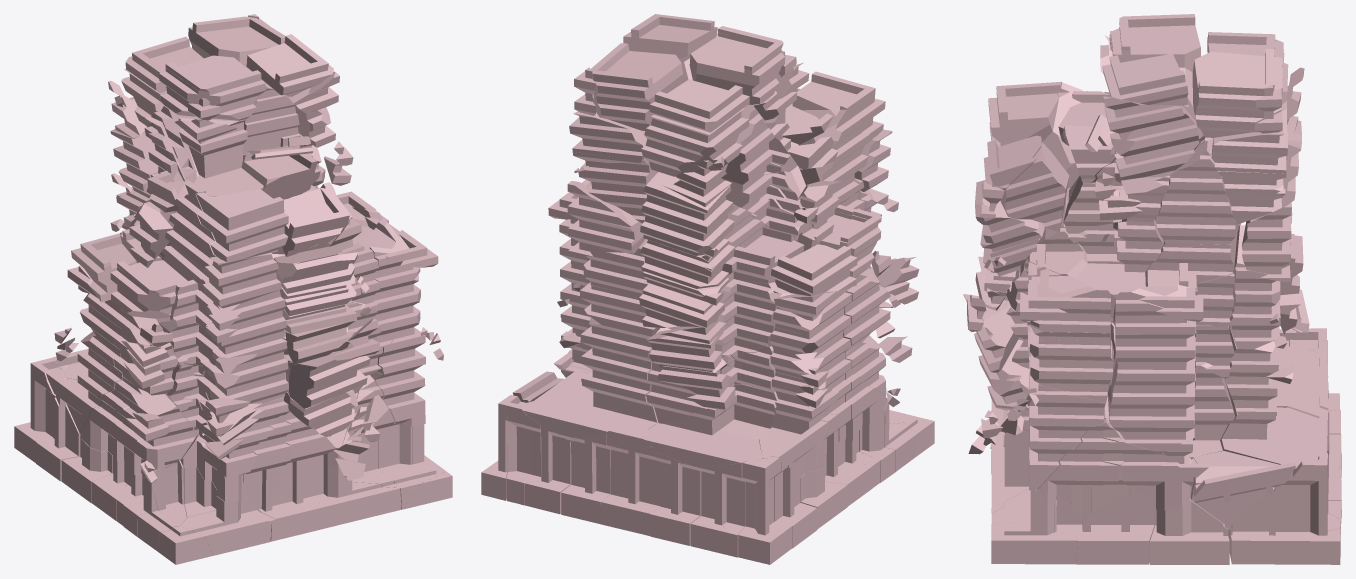
File: Heavy_Commercial3-broken.fbx
3 renders of one model, left to right at view 1: azimuth 30°, elevation 25°; view 2: azimuth 150°, elevation 25°; view 3: azimuth 270°, elevation 25°, orthographic. The views are drawn at different scales.
Visible parts, largest first — view 1: Heavy_Commercal_3_cell.022, Heavy_Commercal_3_cell.010, Heavy_Commercal_3_cell.110, Heavy_Commercal_3_cell.197, Heavy_Commercal_3_cell.074, Heavy_Commercal_3_cell.013, Heavy_Commercal_3_cell.125, Heavy_Commercal_3_cell.098, Heavy_Commercal_3_cell.199, Heavy_Commercal_3_cell.181, Heavy_Commercal_3_cell.088, Heavy_Commercal_3_cell.124 (+79 smaller); view 2: Heavy_Commercal_3_cell.199, Heavy_Commercal_3_cell.047, Heavy_Commercal_3_cell.002, Heavy_Commercal_3_cell.096, Heavy_Commercal_3_cell.171, Heavy_Commercal_3_cell.010, Heavy_Commercal_3_cell.038, Heavy_Commercal_3_cell.031, Heavy_Commercal_3_cell.001, Heavy_Commercal_3_cell.011, Heavy_Commercal_3_cell.141, Heavy_Commercal_3_cell.158 (+68 smaller); view 3: Heavy_Commercal_3_cell.199, Heavy_Commercal_3_cell.135, Heavy_Commercal_3_cell.002, Heavy_Commercal_3_cell.030, Heavy_Commercal_3_cell.166, Heavy_Commercal_3_cell.065, Heavy_Commercal_3_cell.007, Heavy_Commercal_3_cell.022, Heavy_Commercal_3_cell.104, Heavy_Commercal_3_cell.056, Heavy_Commercal_3_cell.125, Heavy_Commercal_3_cell.190 (+70 smaller).
Boxes of the visible parts, left/top/right/bottom form: Heavy_Commercal_3_cell.022: left=196, top=188, right=288, bottom=262; Heavy_Commercal_3_cell.010: left=159, top=55, right=265, bottom=120; Heavy_Commercal_3_cell.110: left=176, top=115, right=263, bottom=196; Heavy_Commercal_3_cell.197: left=207, top=345, right=288, bottom=403; Heavy_Commercal_3_cell.074: left=205, top=290, right=287, bottom=357; Heavy_Commercal_3_cell.013: left=180, top=494, right=271, bottom=555; Heavy_Commercal_3_cell.125: left=246, top=34, right=333, bottom=96; Heavy_Commercal_3_cell.098: left=285, top=349, right=370, bottom=408; Heavy_Commercal_3_cell.199: left=188, top=16, right=285, bottom=67; Heavy_Commercal_3_cell.181: left=115, top=377, right=196, bottom=469; Heavy_Commercal_3_cell.088: left=202, top=253, right=281, bottom=308; Heavy_Commercal_3_cell.124: left=282, top=187, right=349, bottom=256; Heavy_Commercal_3_cell.199: left=591, top=43, right=683, bottom=134; Heavy_Commercal_3_cell.047: left=640, top=172, right=734, bottom=255; Heavy_Commercal_3_cell.002: left=521, top=382, right=658, bottom=441; Heavy_Commercal_3_cell.096: left=641, top=108, right=749, bottom=176; Heavy_Commercal_3_cell.171: left=643, top=408, right=762, bottom=468; Heavy_Commercal_3_cell.010: left=689, top=32, right=784, bottom=104; Heavy_Commercal_3_cell.038: left=738, top=456, right=792, bottom=564; Heavy_Commercal_3_cell.031: left=722, top=204, right=804, bottom=283; Heavy_Commercal_3_cell.001: left=650, top=452, right=701, bottom=545; Heavy_Commercal_3_cell.011: left=561, top=433, right=610, bottom=524; Heavy_Commercal_3_cell.141: left=771, top=244, right=857, bottom=296; Heavy_Commercal_3_cell.158: left=649, top=79, right=749, bottom=132; Heavy_Commercal_3_cell.199: left=1192, top=49, right=1282, bottom=141; Heavy_Commercal_3_cell.135: left=1155, top=138, right=1237, bottom=244; Heavy_Commercal_3_cell.002: left=1220, top=386, right=1327, bottom=466; Heavy_Commercal_3_cell.030: left=1076, top=489, right=1155, bottom=564; Heavy_Commercal_3_cell.166: left=1150, top=498, right=1229, bottom=564; Heavy_Commercal_3_cell.065: left=1228, top=472, right=1292, bottom=564; Heavy_Commercal_3_cell.007: left=1110, top=105, right=1199, bottom=178; Heavy_Commercal_3_cell.022: left=988, top=81, right=1061, bottom=146; Heavy_Commercal_3_cell.104: left=1000, top=142, right=1069, bottom=231; Heavy_Commercal_3_cell.056: left=1075, top=219, right=1163, bottom=322; Heavy_Commercal_3_cell.125: left=1102, top=53, right=1188, bottom=106; Heavy_Commercal_3_cell.190: left=1037, top=418, right=1118, bottom=521.
Bounding box in the file's own units: 4172 × 5767 × 4377.
